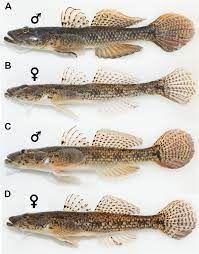Goby: (3, 188, 199, 249), (3, 125, 197, 185), (2, 9, 193, 63), (5, 63, 197, 114)
